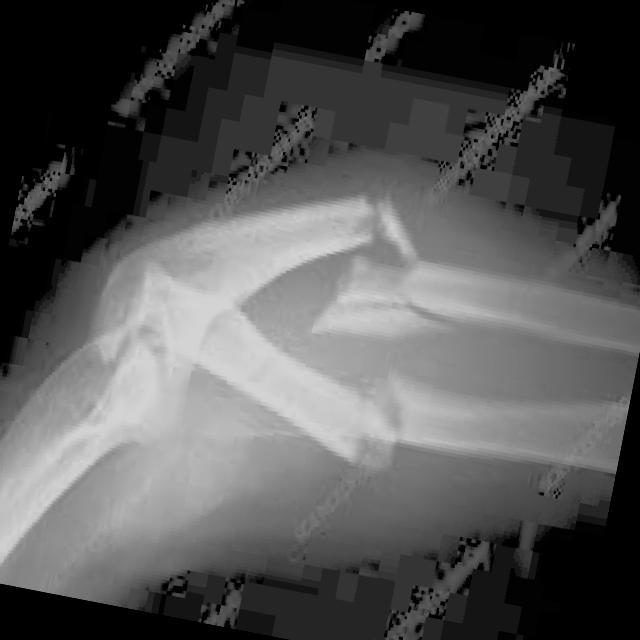Comminuted Fracture: (323, 194, 432, 354), (316, 358, 456, 471)
